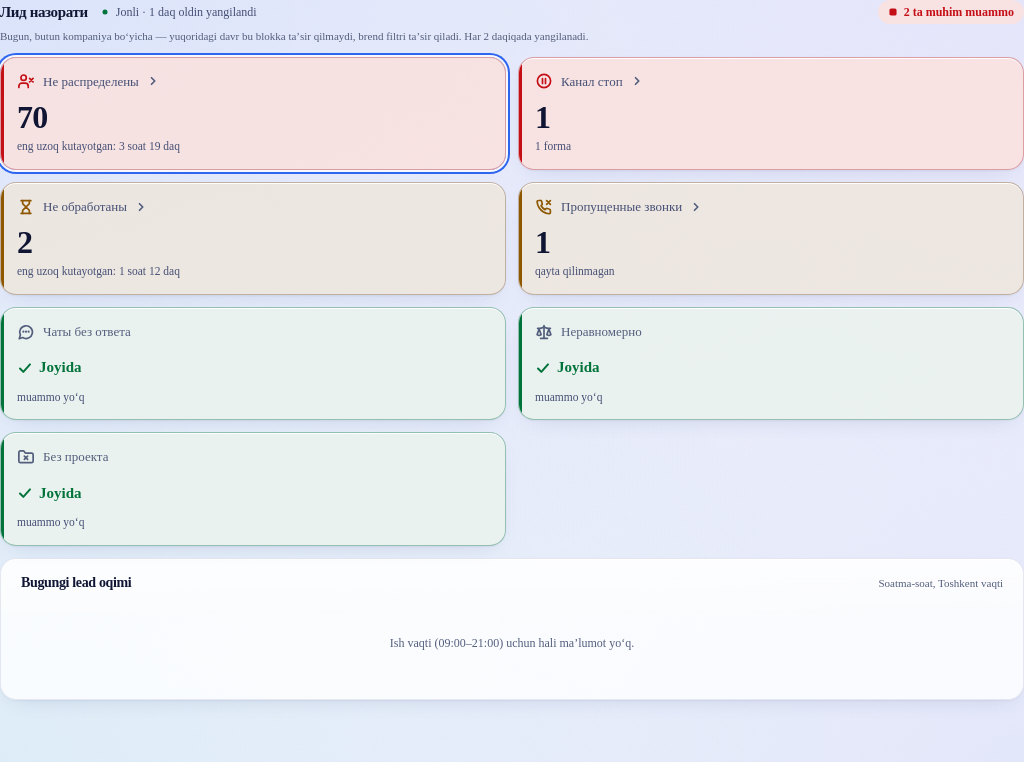
Test case: the drawer › opens as a modal named by the problem, with its count, and takes the focus
Expected: the text "Не распределены" is shown, [43, 72, 139, 91]
Click the button "Не распределены 70 eng uzoq kutayotgan: 3 soat 19 daq": coordinates (91, 81) [0, 56, 506, 170]
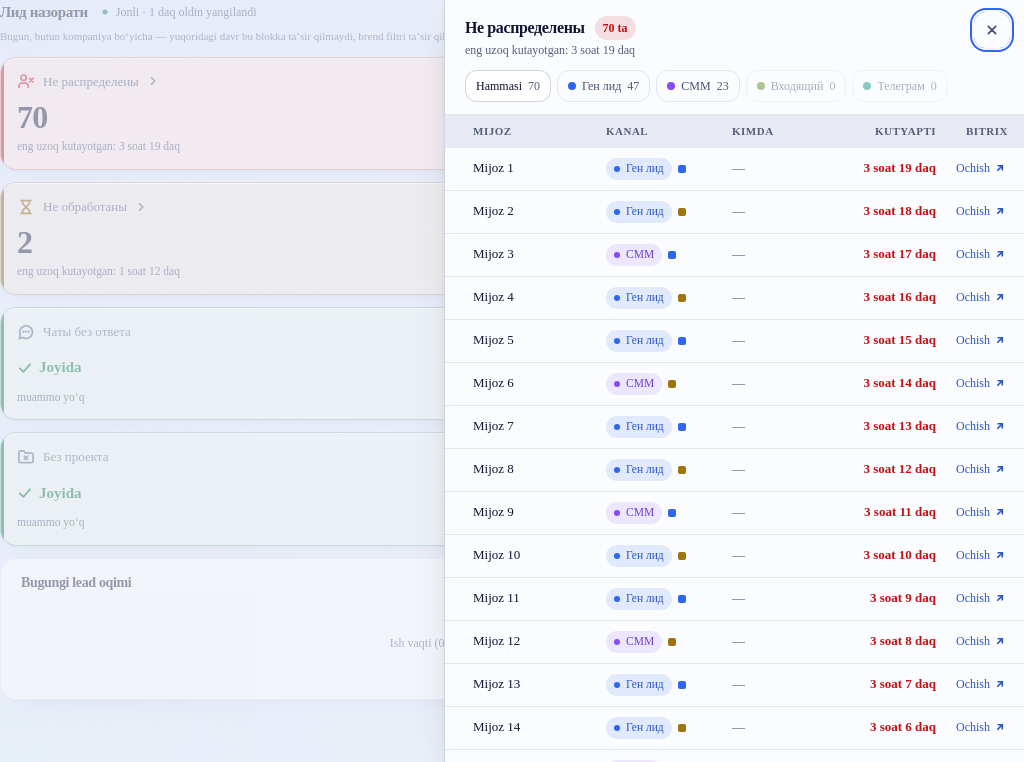
Expected: the heading "Не распределены" is shown, [465, 16, 584, 40]
Expected: the text "70 ta" is shown, [594, 16, 636, 40]
Expected: the button "Не распределены 70 eng uzoq kutayotgan: 3 soat 19 daq" is expanded, [0, 56, 506, 170]
